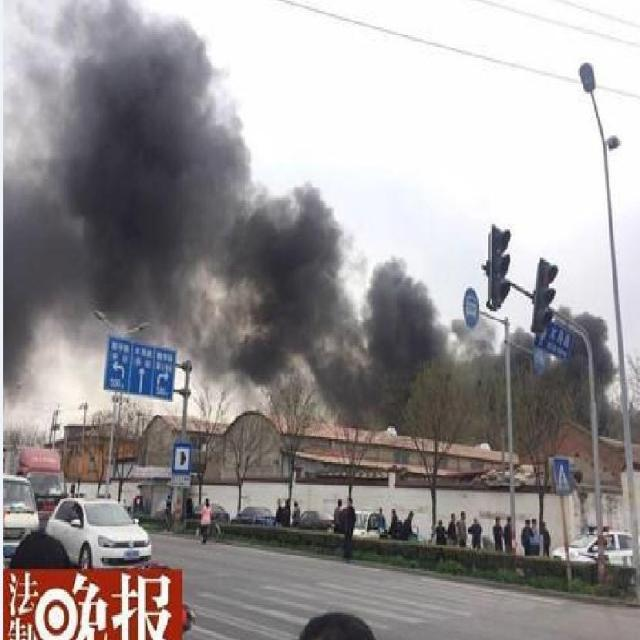Smoke: (4, 7, 455, 430)
